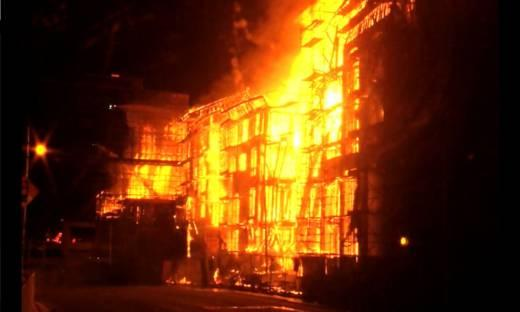fire: (225, 75, 345, 261)
